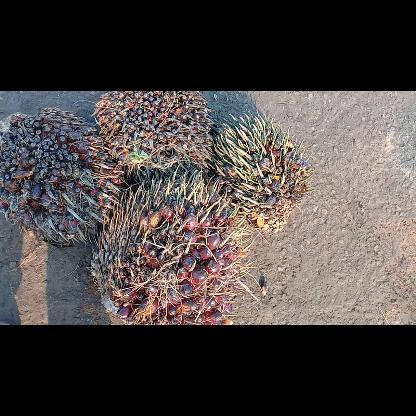TBS abnormal: (0, 106, 128, 250), (200, 108, 318, 234), (88, 92, 220, 184)
TBS masak: (88, 166, 252, 324)
